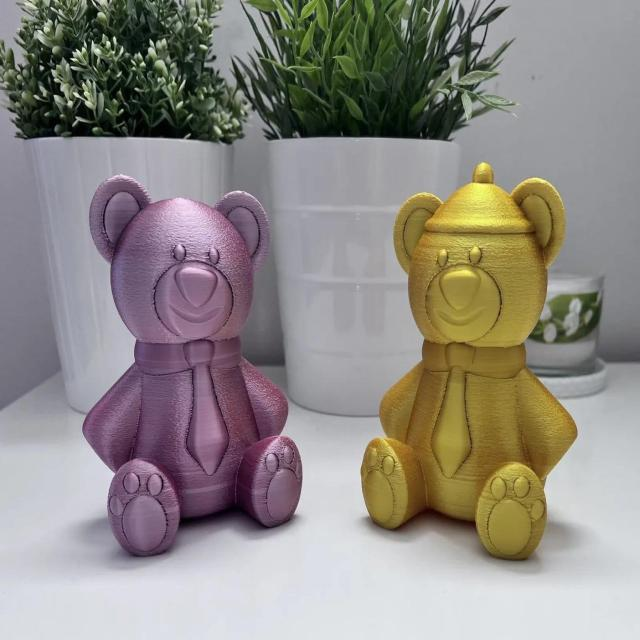Without deffect: (68, 165, 310, 557)
